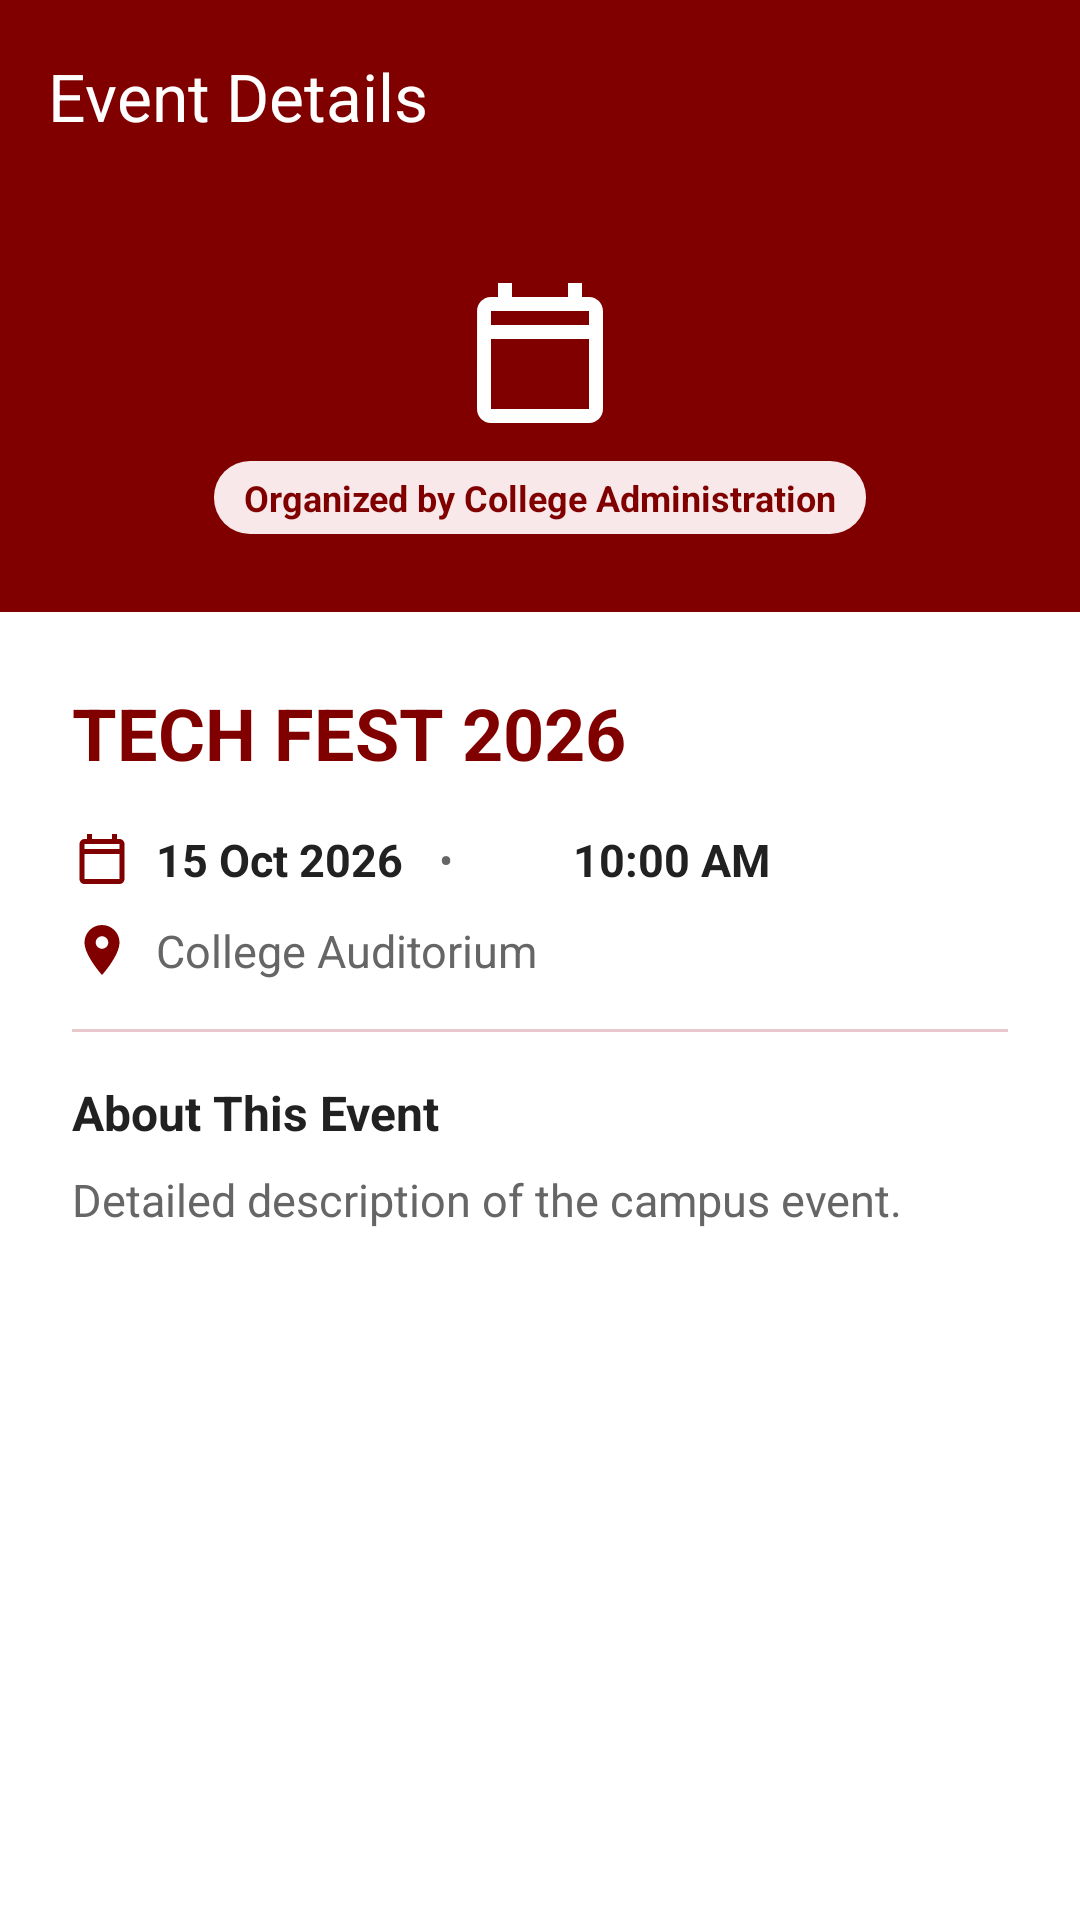

Point at icon controls on the screen. Image size 1080 × 1920, points as [x,y].
events: [540,353], [102,859]
location: [102,950]
